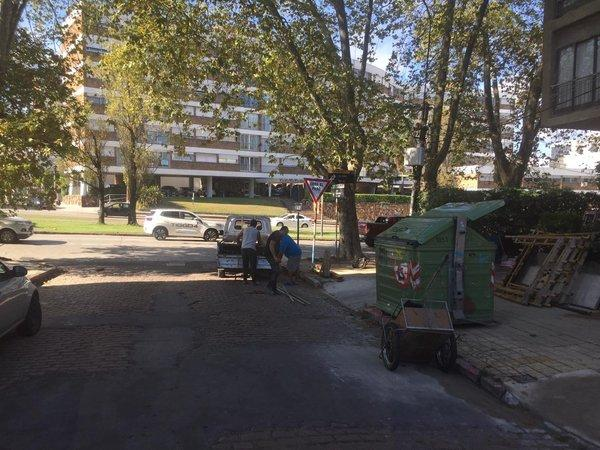Trash: (367, 200, 502, 323)
